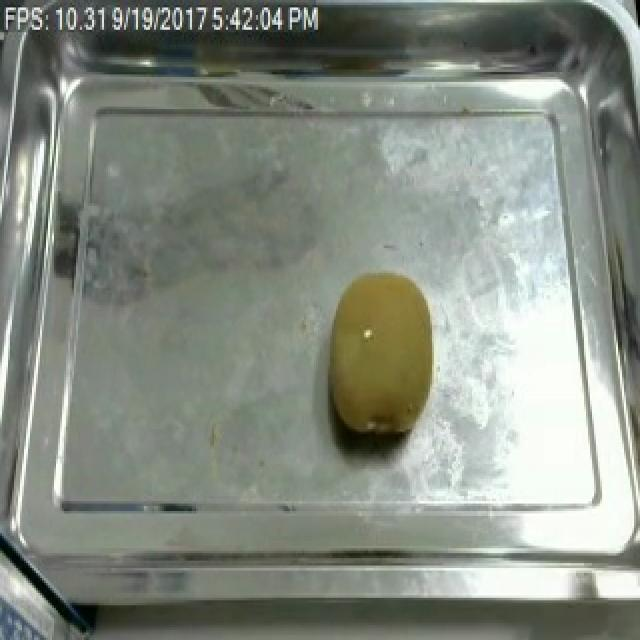Fruit: (316, 263, 448, 446)
